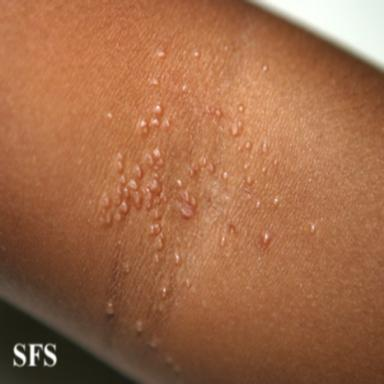Molluscum-Contagiosum: (101, 147, 197, 264), (136, 102, 170, 138), (187, 156, 215, 177), (221, 224, 236, 246), (229, 118, 243, 137), (165, 357, 181, 373), (259, 229, 272, 246), (207, 107, 223, 120), (245, 176, 257, 189), (238, 141, 252, 151), (106, 301, 115, 315), (135, 320, 143, 333), (271, 196, 280, 207), (254, 199, 263, 209), (150, 78, 161, 86), (149, 339, 157, 349), (245, 176, 253, 186), (174, 252, 180, 264), (161, 287, 167, 299), (310, 223, 316, 234), (123, 263, 129, 273), (237, 105, 245, 112), (185, 279, 191, 288), (157, 51, 165, 57), (263, 64, 269, 71), (107, 112, 113, 119), (193, 51, 199, 57), (182, 84, 187, 91)
